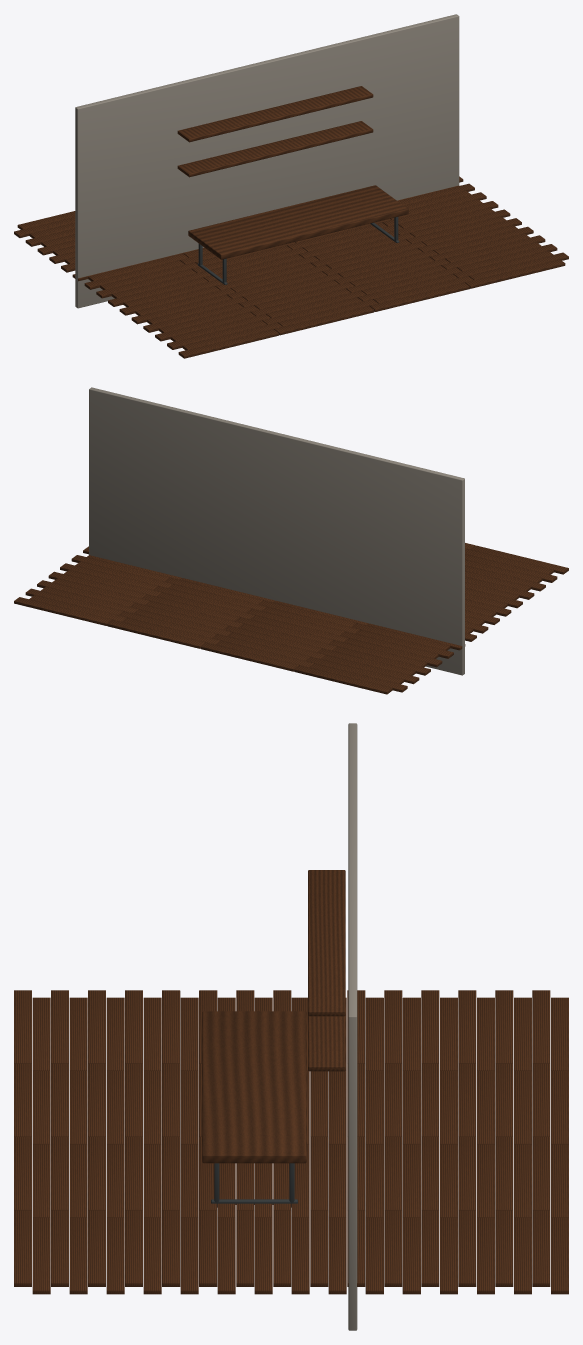
File: office-room.glb
3 renders of one model, top to bottom at view 1: azimuth 30°, elevation 25°; view 2: azimuth 150°, elevation 25°; view 3: azimuth 270°, elevation 25°, orthographic. The views are drawn at different scales.
Parts seen in each view (by area): view 1: Plaster wall, Walnut desktop, Floating walnut shelf, Floating walnut shelf.001, Walnut floorboard, Walnut floorboard.003, Walnut floorboard.002, Walnut floorboard.001, Walnut floorboard.056, Walnut floorboard.008, Walnut floorboard.040, Walnut floorboard.064 (+57 smaller); view 2: Plaster wall, Walnut floorboard.116, Walnut floorboard.117, Walnut floorboard.118, Walnut floorboard.119, Walnut floorboard.104, Walnut floorboard.080, Walnut floorboard.096, Walnut floorboard.112, Walnut floorboard.088, Walnut floorboard, Walnut floorboard.087 (+40 smaller); view 3: Walnut desktop, Plaster wall, Floating walnut shelf.001, Floating walnut shelf, Walnut floorboard.007, Walnut floorboard.015, Walnut floorboard.023, Walnut floorboard.031, Walnut floorboard.039, Walnut floorboard.047, Walnut floorboard.055, Walnut floorboard.063 (+98 smaller).
Part boxes in pixels (bbox=[...]): Plaster wall: bbox=[75, 14, 459, 308]; Walnut desktop: bbox=[188, 185, 408, 259]; Floating walnut shelf: bbox=[177, 121, 373, 177]; Floating walnut shelf.001: bbox=[177, 86, 373, 142]; Walnut floorboard: bbox=[178, 329, 278, 358]; Walnut floorboard.003: bbox=[465, 259, 565, 288]; Walnut floorboard.002: bbox=[369, 282, 469, 311]; Walnut floorboard.001: bbox=[274, 305, 374, 335]; Walnut floorboard.056: bbox=[96, 269, 196, 298]; Walnut floorboard.008: bbox=[167, 320, 266, 349]; Walnut floorboard.040: bbox=[119, 286, 219, 315]; Walnut floorboard.064: bbox=[84, 260, 184, 289]; Plaster wall: bbox=[89, 387, 464, 675]; Walnut floorboard.116: bbox=[294, 665, 392, 694]; Walnut floorboard.117: bbox=[201, 642, 299, 671]; Walnut floorboard.118: bbox=[107, 620, 205, 648]; Walnut floorboard.119: bbox=[14, 597, 111, 625]; Walnut floorboard.104: bbox=[321, 655, 419, 684]; Walnut floorboard.080: bbox=[356, 630, 453, 658]; Walnut floorboard.096: bbox=[332, 646, 430, 675]; Walnut floorboard.112: bbox=[310, 663, 407, 692]; Walnut floorboard.088: bbox=[344, 638, 442, 667]; Walnut floorboard: bbox=[471, 545, 568, 574]; Walnut floorboard.087: bbox=[60, 563, 158, 590]; Walnut desktop: bbox=[202, 1011, 306, 1163]; Plaster wall: bbox=[348, 723, 357, 1330]; Floating walnut shelf.001: bbox=[308, 870, 345, 1016]; Floating walnut shelf: bbox=[308, 1015, 345, 1071]; Walnut floorboard.007: bbox=[32, 1217, 50, 1294]; Walnut floorboard.015: bbox=[69, 1217, 87, 1294]; Walnut floorboard.023: bbox=[106, 1217, 124, 1294]; Walnut floorboard.031: bbox=[143, 1217, 161, 1294]; Walnut floorboard.039: bbox=[180, 1217, 198, 1294]; Walnut floorboard.047: bbox=[217, 1217, 235, 1294]; Walnut floorboard.055: bbox=[254, 1217, 272, 1294]; Walnut floorboard.063: bbox=[291, 1217, 309, 1294].
Size of the model in its own units: 12.29 by 6 by 9.59.
3 materials, 1 textured.
